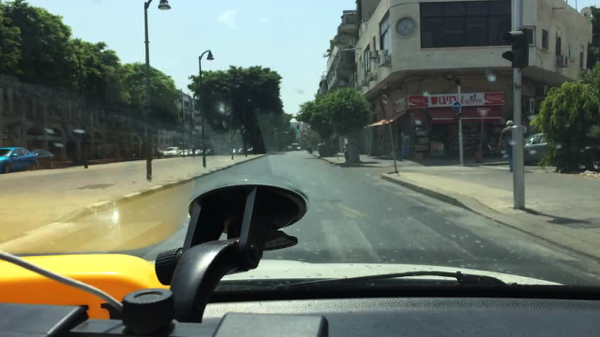car: (522, 133, 563, 169), (0, 147, 39, 173), (29, 147, 58, 170), (163, 145, 183, 159), (232, 145, 246, 154), (181, 148, 193, 157), (195, 147, 204, 157), (205, 147, 214, 156), (247, 146, 254, 154), (291, 142, 298, 149), (286, 145, 294, 151), (295, 145, 302, 151)
person: (497, 118, 513, 173)
traffic light: (501, 29, 525, 70), (452, 111, 462, 122), (378, 89, 390, 97), (296, 124, 300, 132), (285, 129, 288, 138)
traffic sign: (476, 107, 490, 120), (450, 100, 460, 111)
